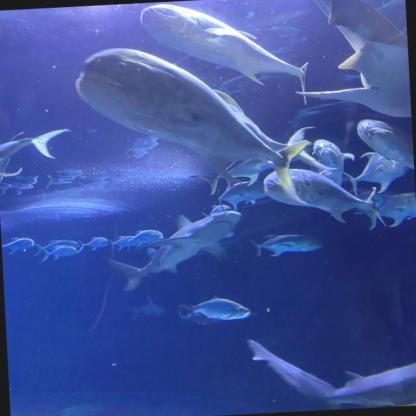fish: (75, 39, 314, 214), (140, 0, 311, 113), (263, 164, 381, 236), (0, 128, 73, 187), (191, 154, 286, 195), (344, 148, 415, 194), (357, 116, 414, 171), (353, 191, 415, 230), (179, 296, 252, 325), (311, 138, 355, 186), (250, 233, 320, 258), (217, 181, 269, 210), (32, 238, 83, 261), (129, 229, 163, 247), (2, 236, 34, 254), (108, 235, 136, 250), (83, 238, 108, 250)
shark: (288, 0, 411, 125), (249, 331, 416, 414), (95, 209, 244, 294), (130, 293, 165, 319)
